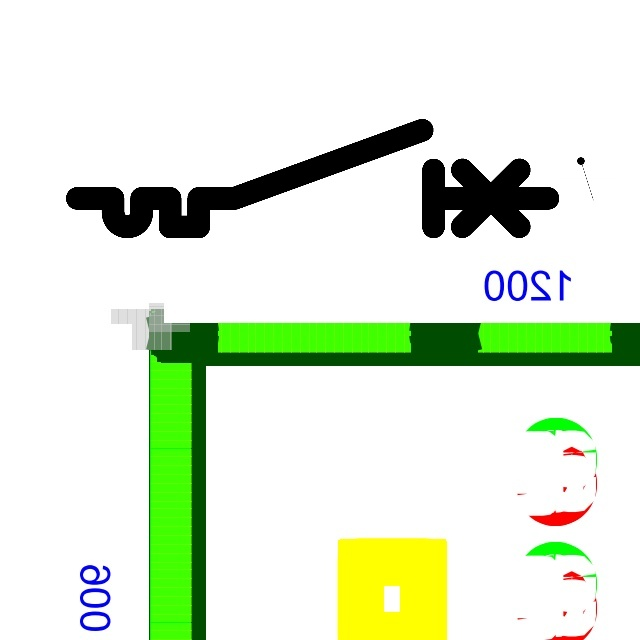interruptor_termomagnetico: (65, 118, 560, 239)
